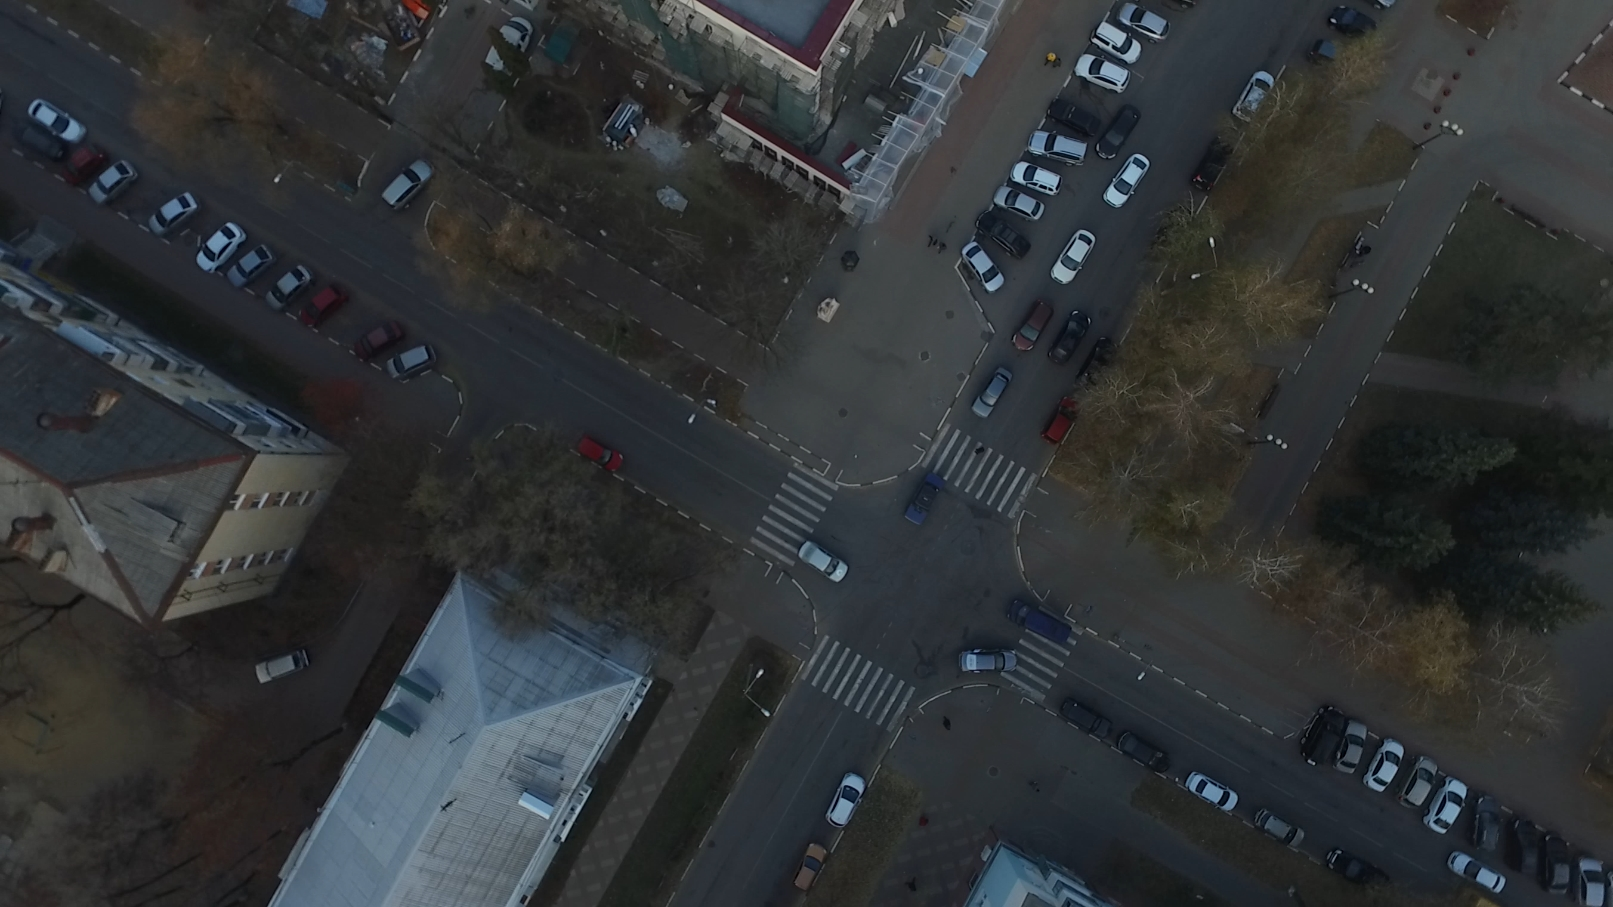car: (482, 14, 541, 75), (1006, 597, 1069, 651), (25, 97, 90, 150), (378, 157, 439, 212), (1297, 705, 1345, 774), (1323, 847, 1393, 891), (1009, 297, 1061, 355), (1191, 134, 1239, 196), (196, 219, 250, 272), (1093, 102, 1145, 157), (1444, 849, 1507, 895), (1422, 774, 1470, 834), (1042, 311, 1095, 365), (1103, 156, 1155, 210), (975, 210, 1030, 261), (825, 770, 869, 834), (1251, 804, 1309, 851), (1182, 771, 1237, 820), (1233, 68, 1280, 125), (896, 472, 946, 525), (1362, 735, 1408, 792), (799, 537, 849, 589), (1116, 729, 1167, 779), (1051, 231, 1101, 282), (1064, 695, 1113, 745), (1047, 95, 1102, 140), (1042, 141, 1102, 182), (145, 190, 202, 234), (960, 238, 1006, 291), (226, 243, 279, 288), (1073, 51, 1128, 95), (1114, 1, 1167, 47), (970, 368, 1015, 421), (265, 265, 315, 311), (1399, 754, 1440, 811), (350, 321, 407, 361), (1089, 21, 1142, 63), (574, 429, 625, 472), (1331, 718, 1367, 777), (299, 286, 352, 327), (381, 346, 435, 385), (253, 647, 309, 684), (1009, 159, 1067, 196), (1042, 391, 1081, 445), (90, 159, 137, 203), (993, 186, 1044, 226), (1073, 334, 1117, 381), (790, 842, 830, 890), (1322, 4, 1375, 41), (1472, 792, 1501, 857), (62, 144, 109, 184), (1543, 829, 1572, 891), (1509, 820, 1537, 880), (1307, 37, 1349, 74), (1579, 853, 1606, 907), (960, 648, 1017, 673)
